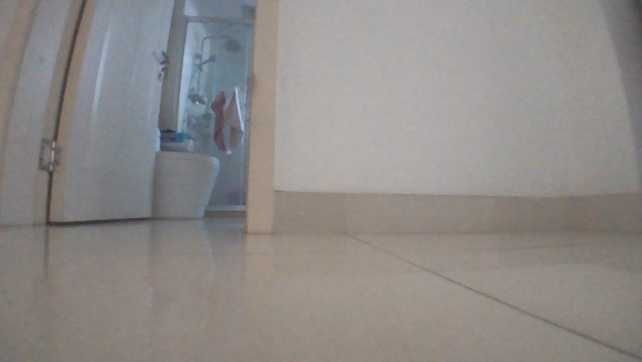door_anno: (0, 1, 174, 225)
toilet: (151, 148, 220, 220)
